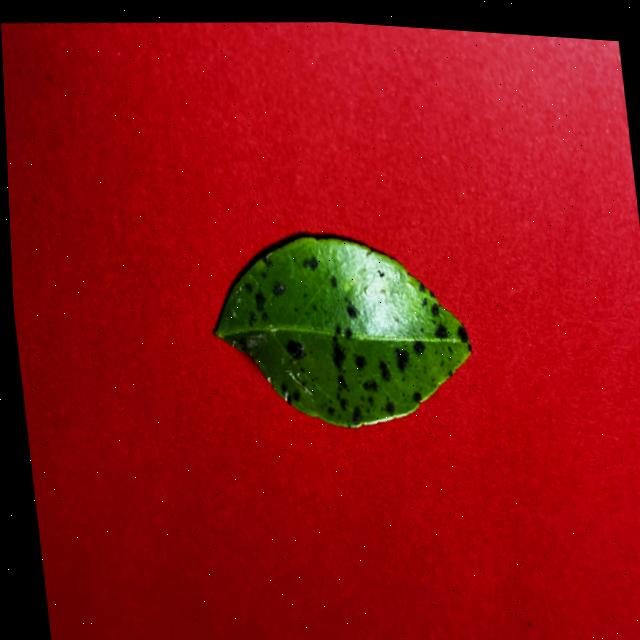sooty_mold: (213, 236, 469, 425)
